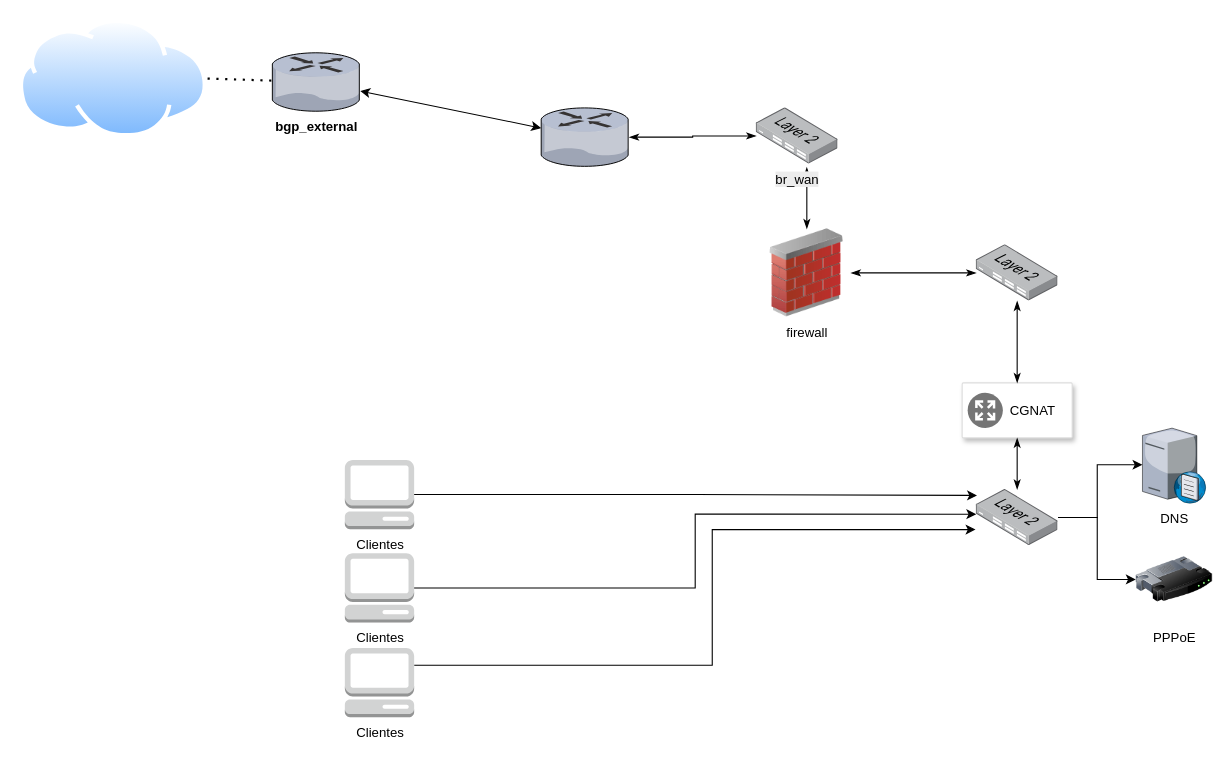
The diagram is 1231 pixels wide and 759 high, and some of its shapes have lost their labels. The shapes that lost their labels are listed below. From the top down, each one's centre as x and y in pixels, then its label:
At pixel 113 78: "Internet".
At pixel 585 136: "bgp_internal".
At pixel 1017 272: "br_cgnat".
At pixel 1017 517: "br_lan".
